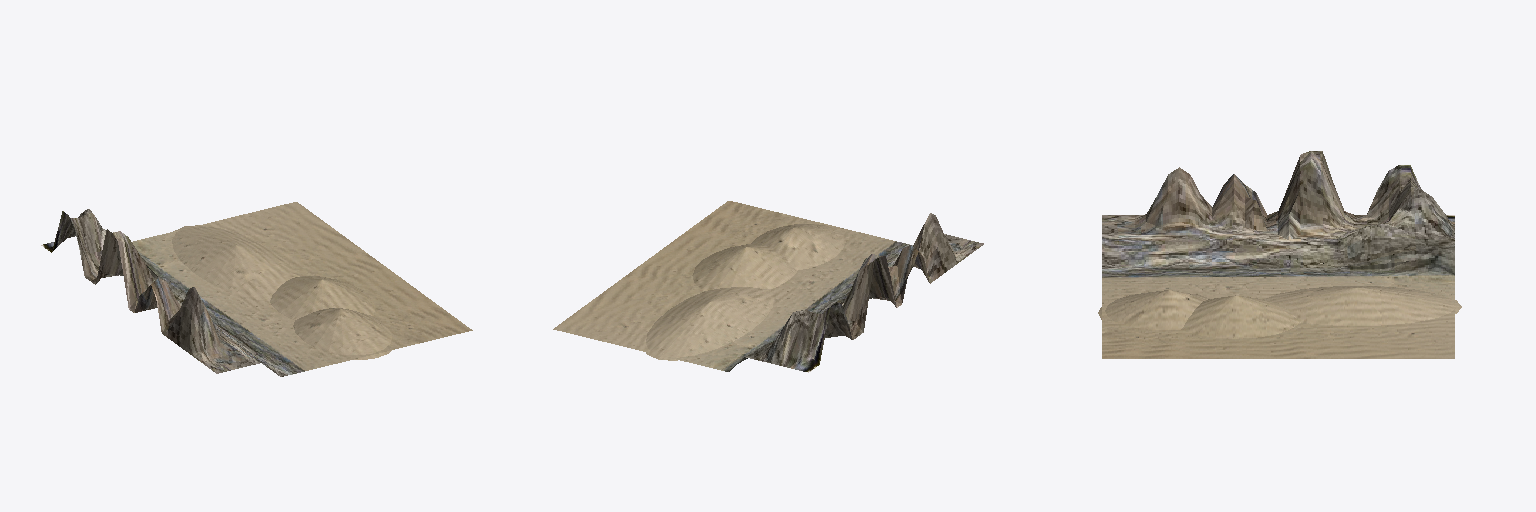
3 views of the same model, side by side, from view 1: azimuth 30°, elevation 25°; view 2: azimuth 150°, elevation 25°; view 3: azimuth 270°, elevation 25° (orthographic).
Visible parts, largest first — view 1: polySurface1; view 2: polySurface1; view 3: polySurface1.
Part boxes in pixels (bbox=[...]): polySurface1: bbox=[41, 202, 472, 376]; polySurface1: bbox=[553, 201, 983, 372]; polySurface1: bbox=[1098, 151, 1461, 358].
Bounding box in the file's own units: 16.45 × 5.27 × 20.25.
Materials: 1 (1 with a texture image).